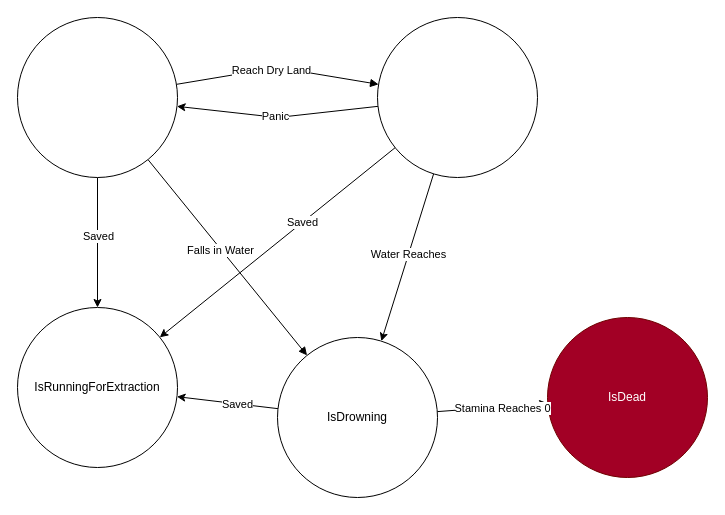
The diagram is 725 pixels wide and 515 high, and some of its shapes have lost their labels. The shapes that lost their labels are listed below. From the top down, each one's box as (x1, y1, x2, y2) in pixels, then its label:
(16, 16, 178, 178): IsRunningInPanic
(376, 16, 538, 178): IsWaitingForHelp
